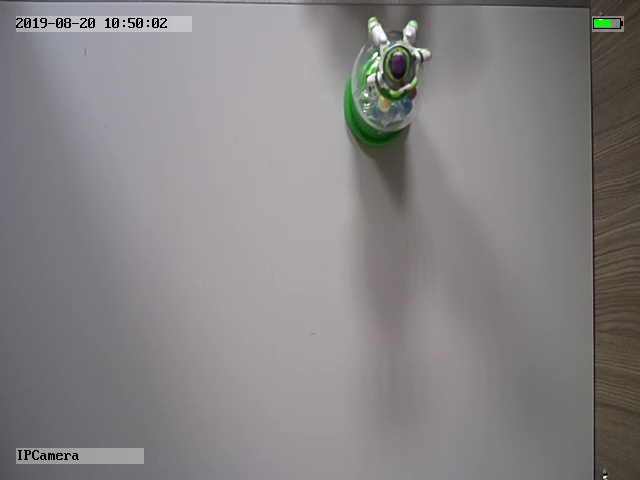buzz: (342, 16, 433, 150)
